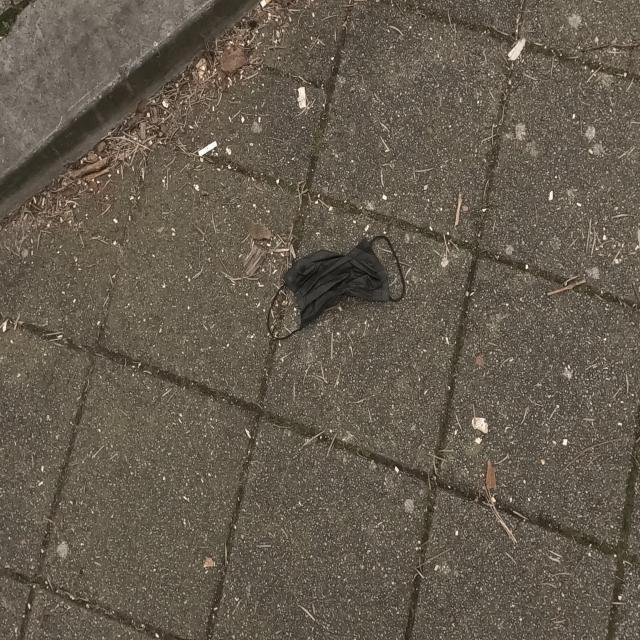Mask: (264, 232, 414, 336)
